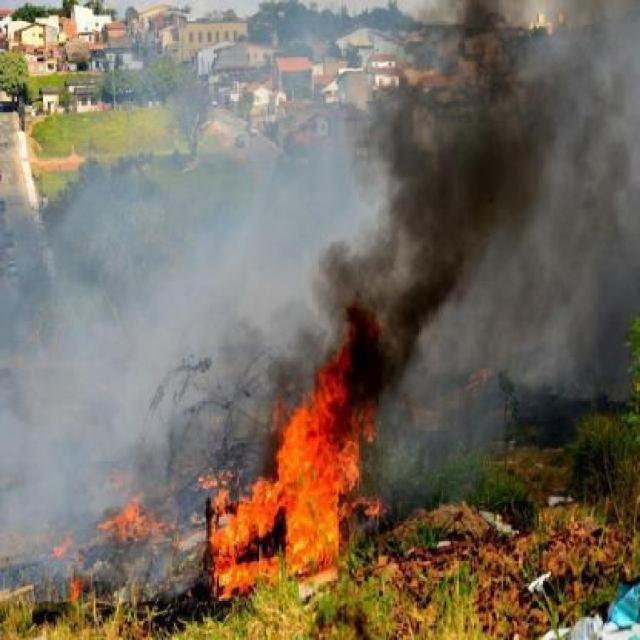Fire: (204, 346, 379, 600)
Smoke: (334, 6, 566, 392)
